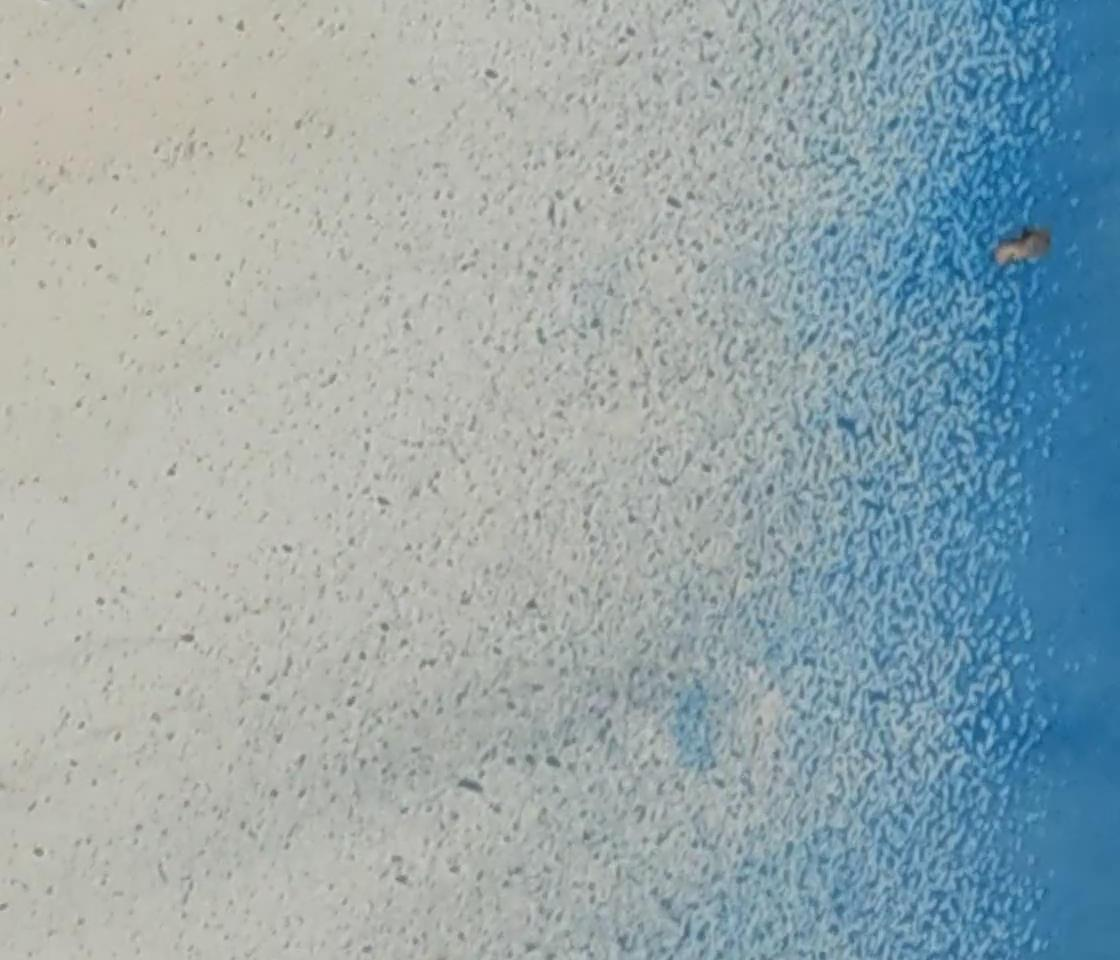paint_peel: (970, 225, 1065, 270)
